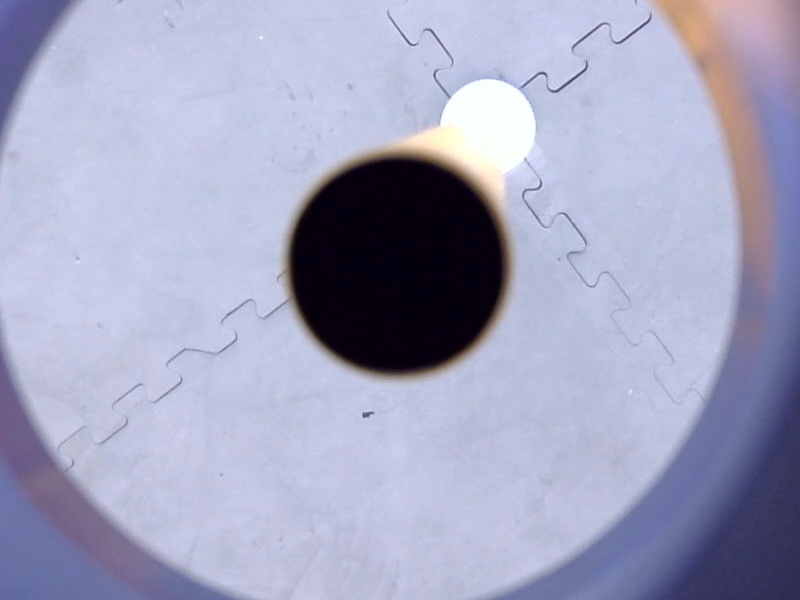tip: (276, 142, 521, 389)
